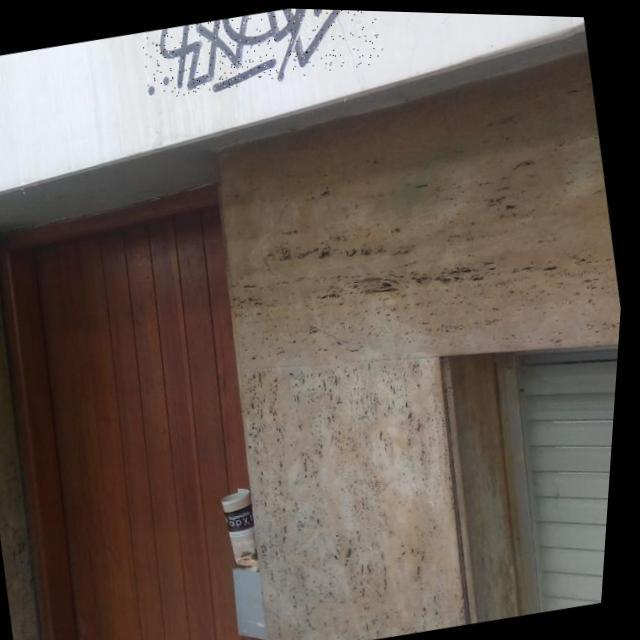-: (137, 3, 389, 105)
